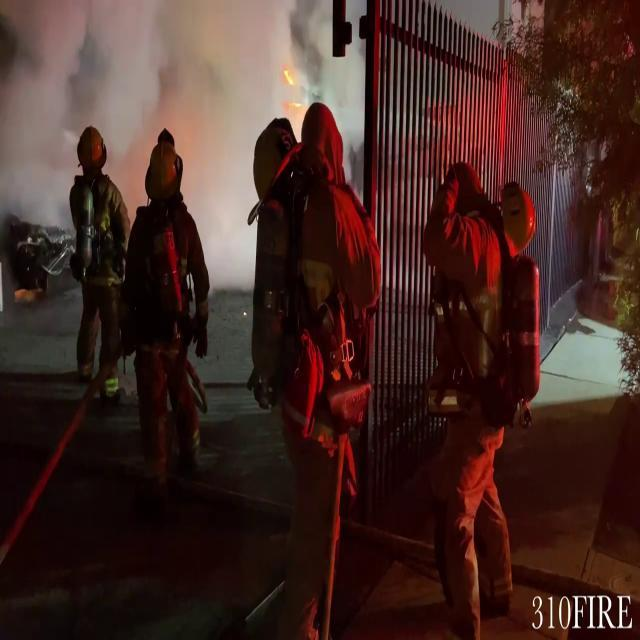Smoke: (0, 0, 290, 233), (0, 1, 115, 214)
